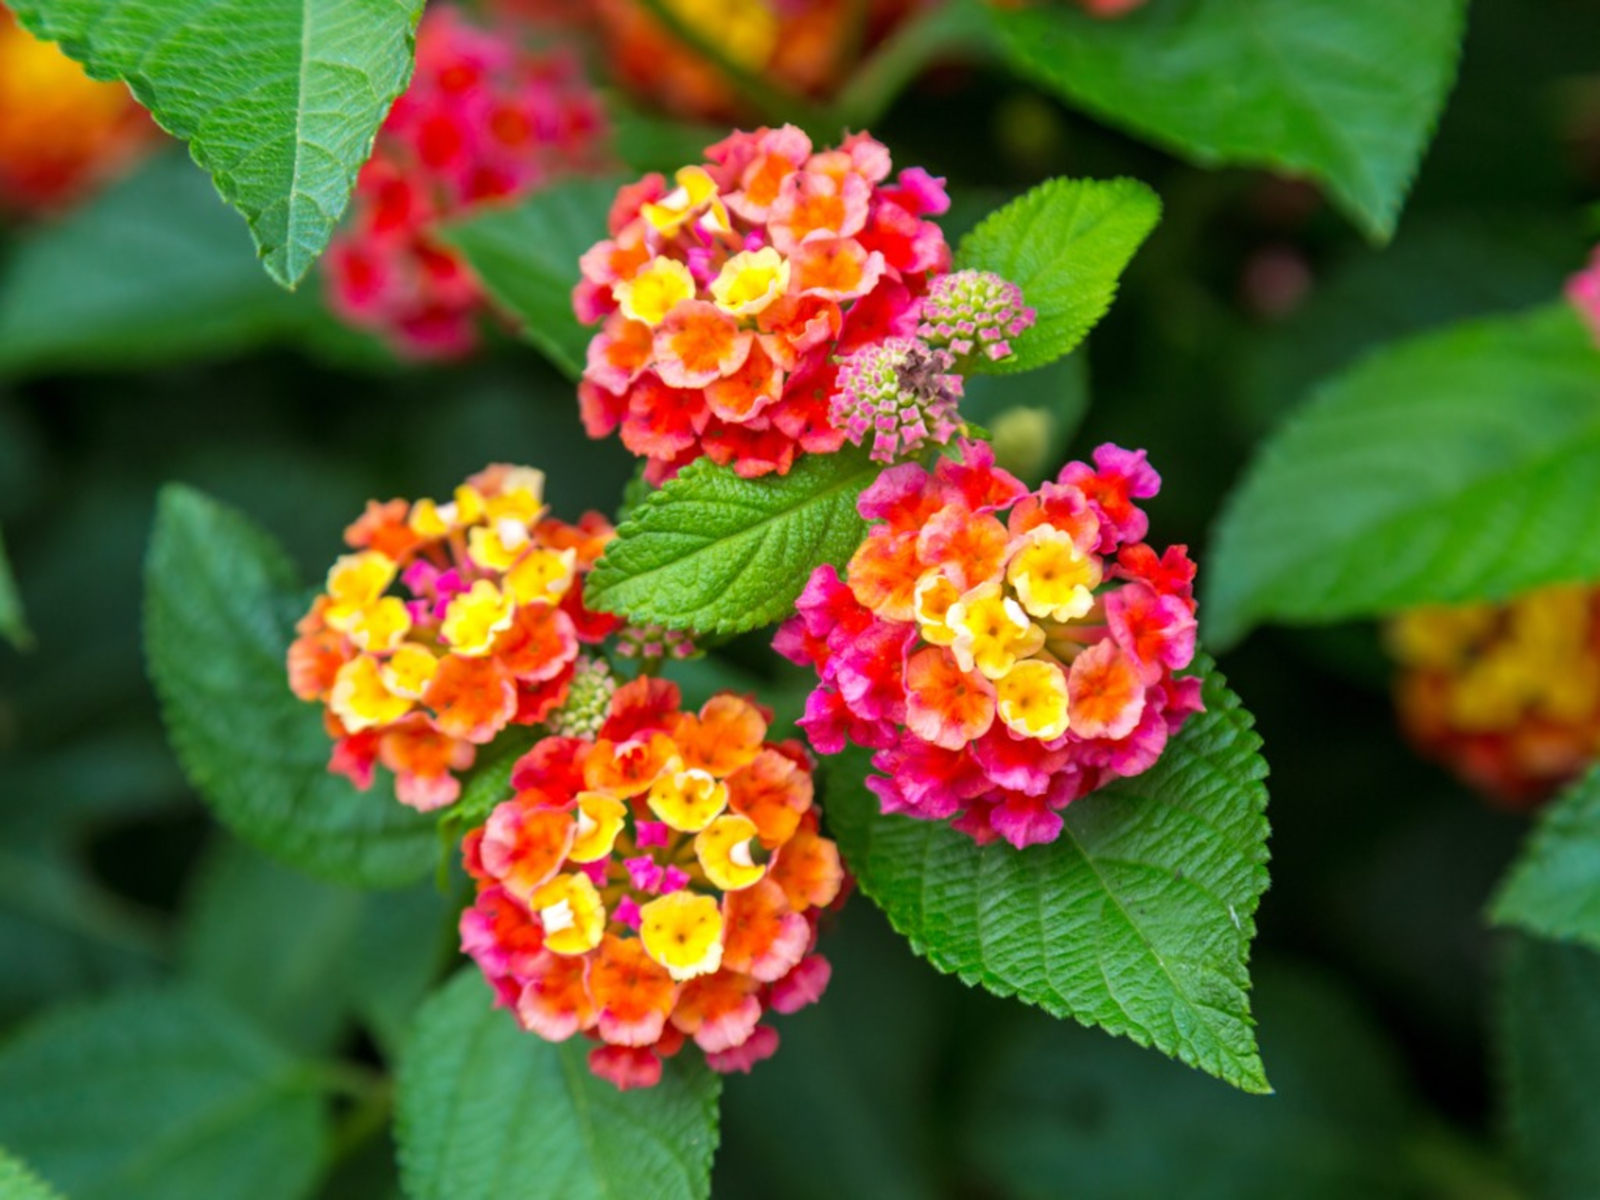lantana: (908, 648, 991, 741), (1063, 644, 1146, 734), (654, 300, 745, 382), (1012, 528, 1094, 615), (428, 659, 513, 741), (774, 173, 868, 239), (1107, 589, 1189, 666), (679, 697, 763, 771), (950, 594, 1031, 671), (626, 381, 707, 453), (520, 953, 587, 1037), (787, 245, 883, 303), (532, 877, 603, 950), (333, 658, 407, 729), (997, 666, 1070, 736), (645, 896, 716, 969), (709, 344, 784, 413), (501, 611, 581, 676), (695, 816, 765, 887), (614, 258, 692, 316), (656, 770, 727, 828), (717, 250, 786, 308), (328, 597, 401, 650), (443, 587, 506, 647), (567, 797, 625, 858), (333, 556, 393, 600)
